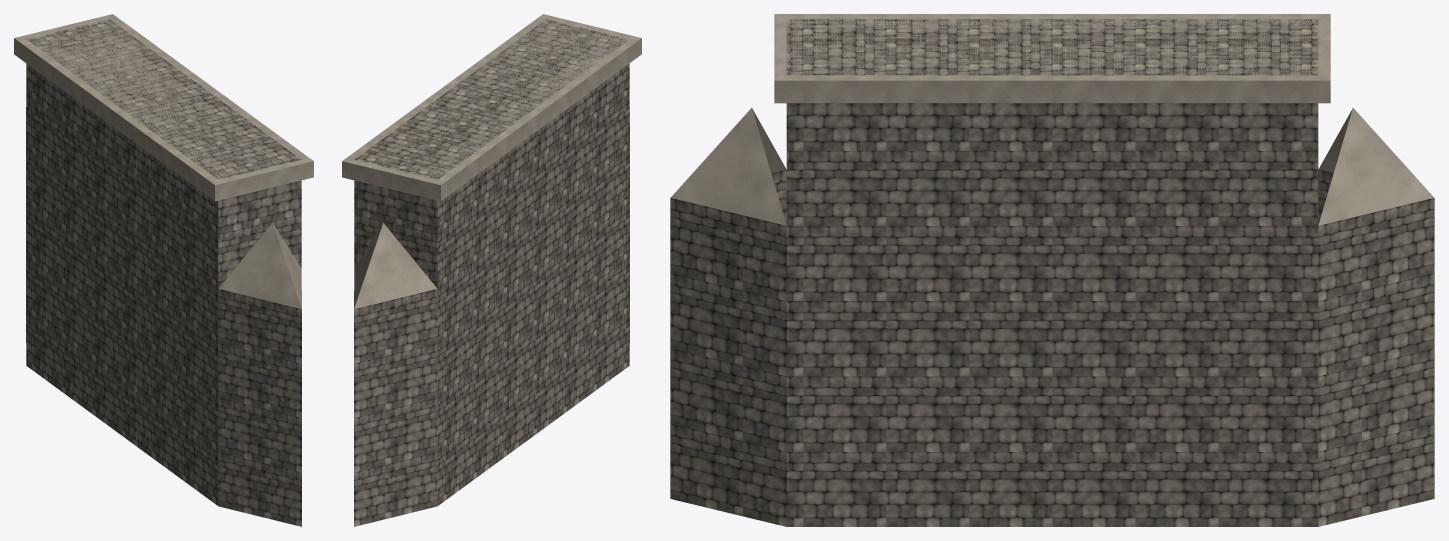
The model's file is Bridge_Stone_Pier_1.gltf.
The picture shows the model from 3 angles, left to right: view 1: azimuth 30°, elevation 25°; view 2: azimuth 150°, elevation 25°; view 3: azimuth 270°, elevation 25°; orthographic projection. The views are drawn at different scales.
Visible parts, largest first — view 1: Bridge_Stone_Pier_1; view 2: Bridge_Stone_Pier_1; view 3: Bridge_Stone_Pier_1.
Part boxes in pixels (x1,y1,x2,y2): Bridge_Stone_Pier_1: (14, 14, 313, 526); Bridge_Stone_Pier_1: (342, 14, 641, 526); Bridge_Stone_Pier_1: (670, 14, 1434, 526).
Size of the model in its own units: 1.9 by 6 by 9.2.
2 materials, 2 textured.
